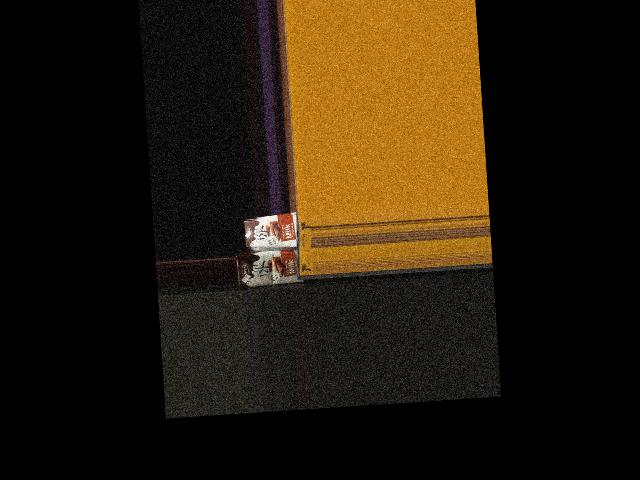chocolate: (241, 208, 304, 250)
